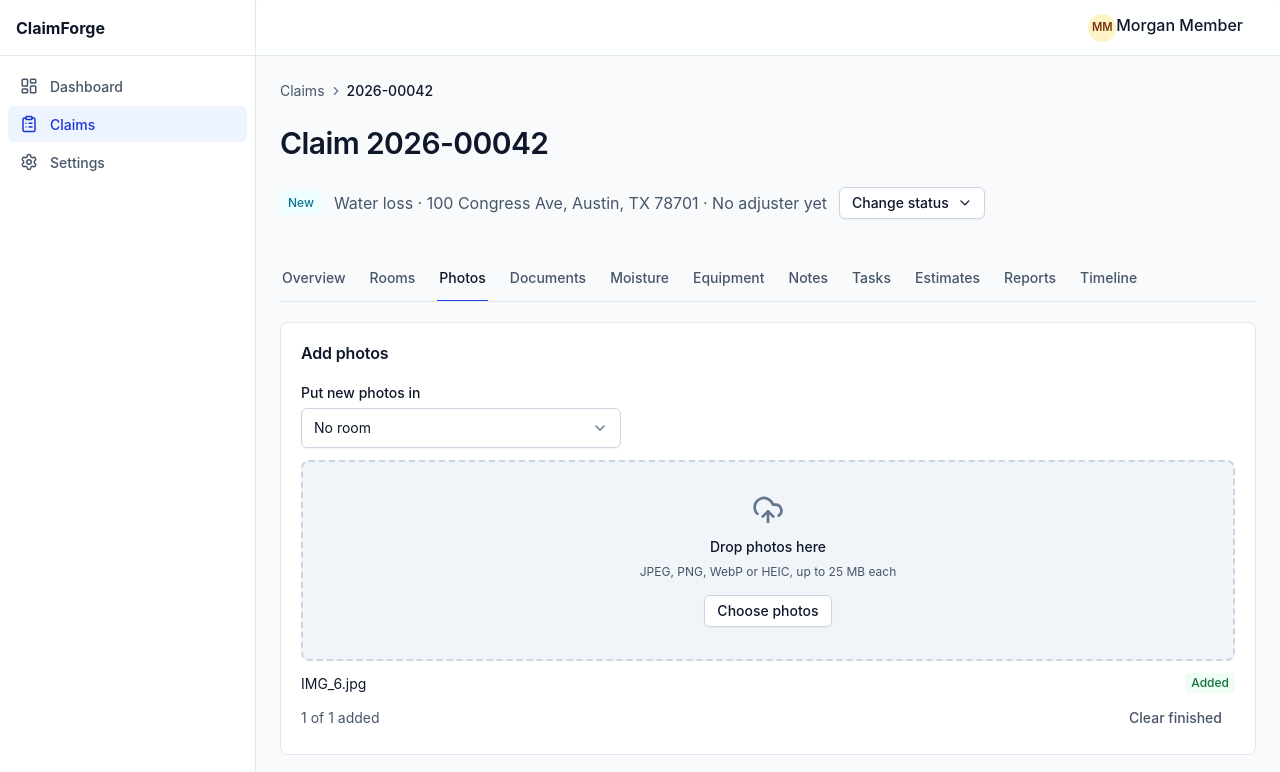
Test: uploading photos › finished uploads can be cleared
Earlier steps of the test are not shown.
Click the button "Clear finished" at [1176, 718], box [1116, 702, 1235, 734]
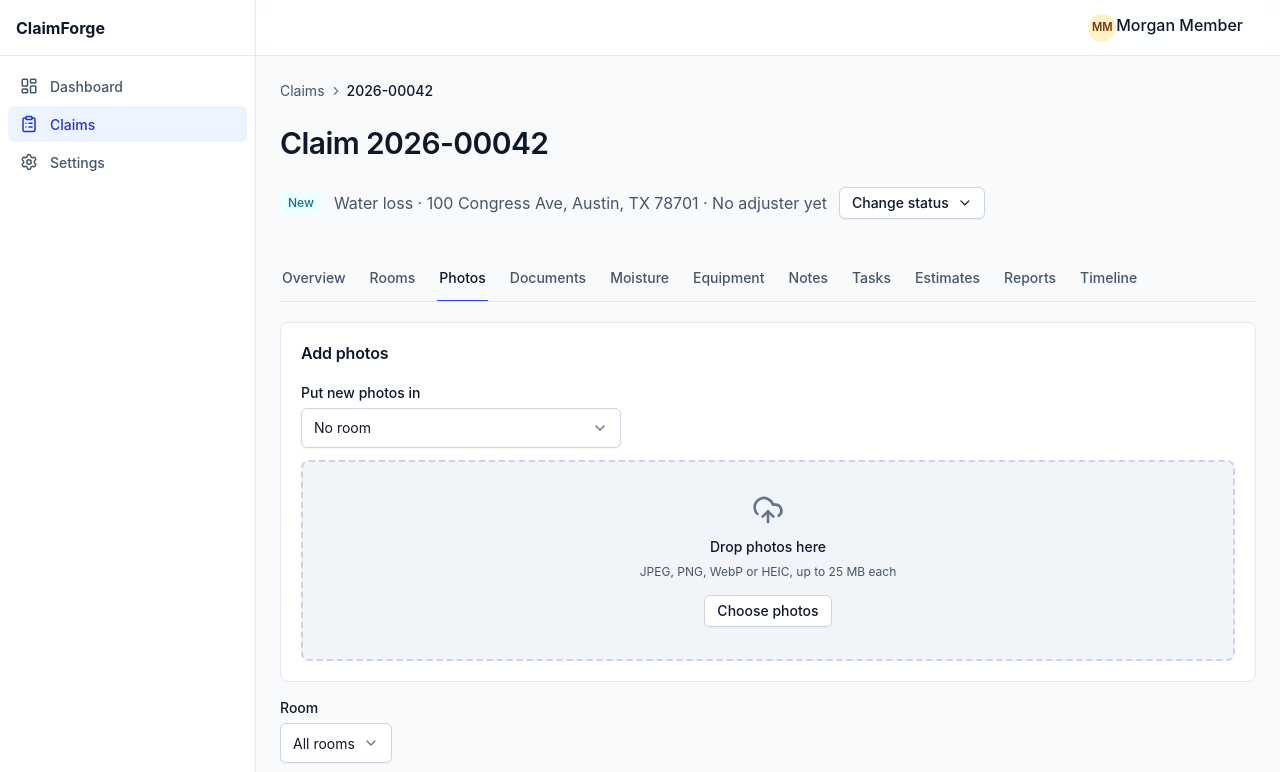
expect the list "Uploads" is gone: met
